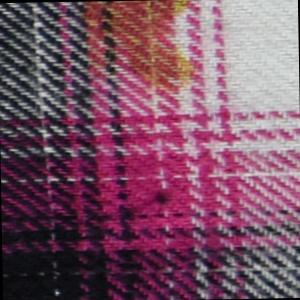Stain: (75, 1, 205, 99)
